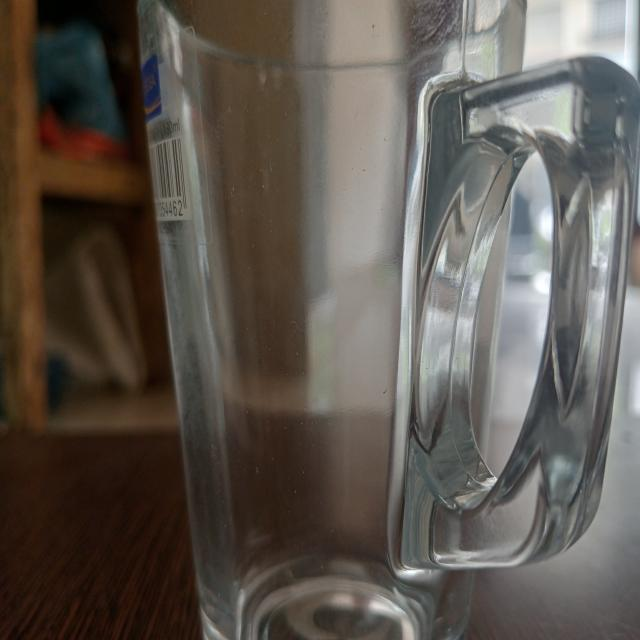glass-VX4N: (142, 0, 638, 640)
